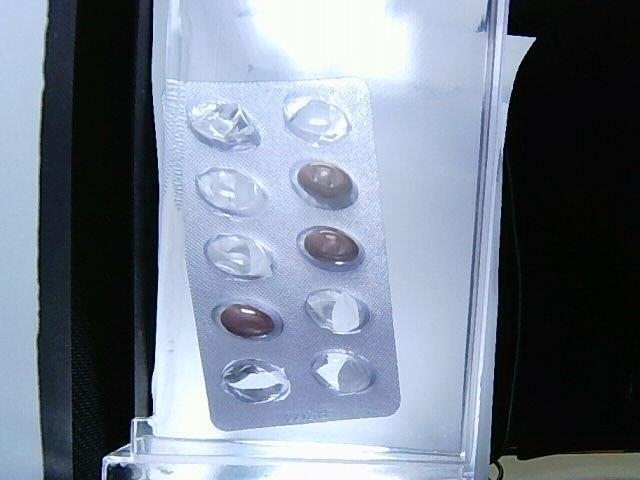Light Front: (158, 77, 402, 436)
No Pill Front: (196, 168, 268, 218), (188, 103, 261, 151), (205, 234, 272, 280), (284, 96, 351, 142), (223, 359, 291, 403), (305, 289, 370, 335), (311, 349, 374, 395)
Pill Front: (291, 161, 357, 209), (213, 298, 284, 341), (298, 225, 365, 270)
